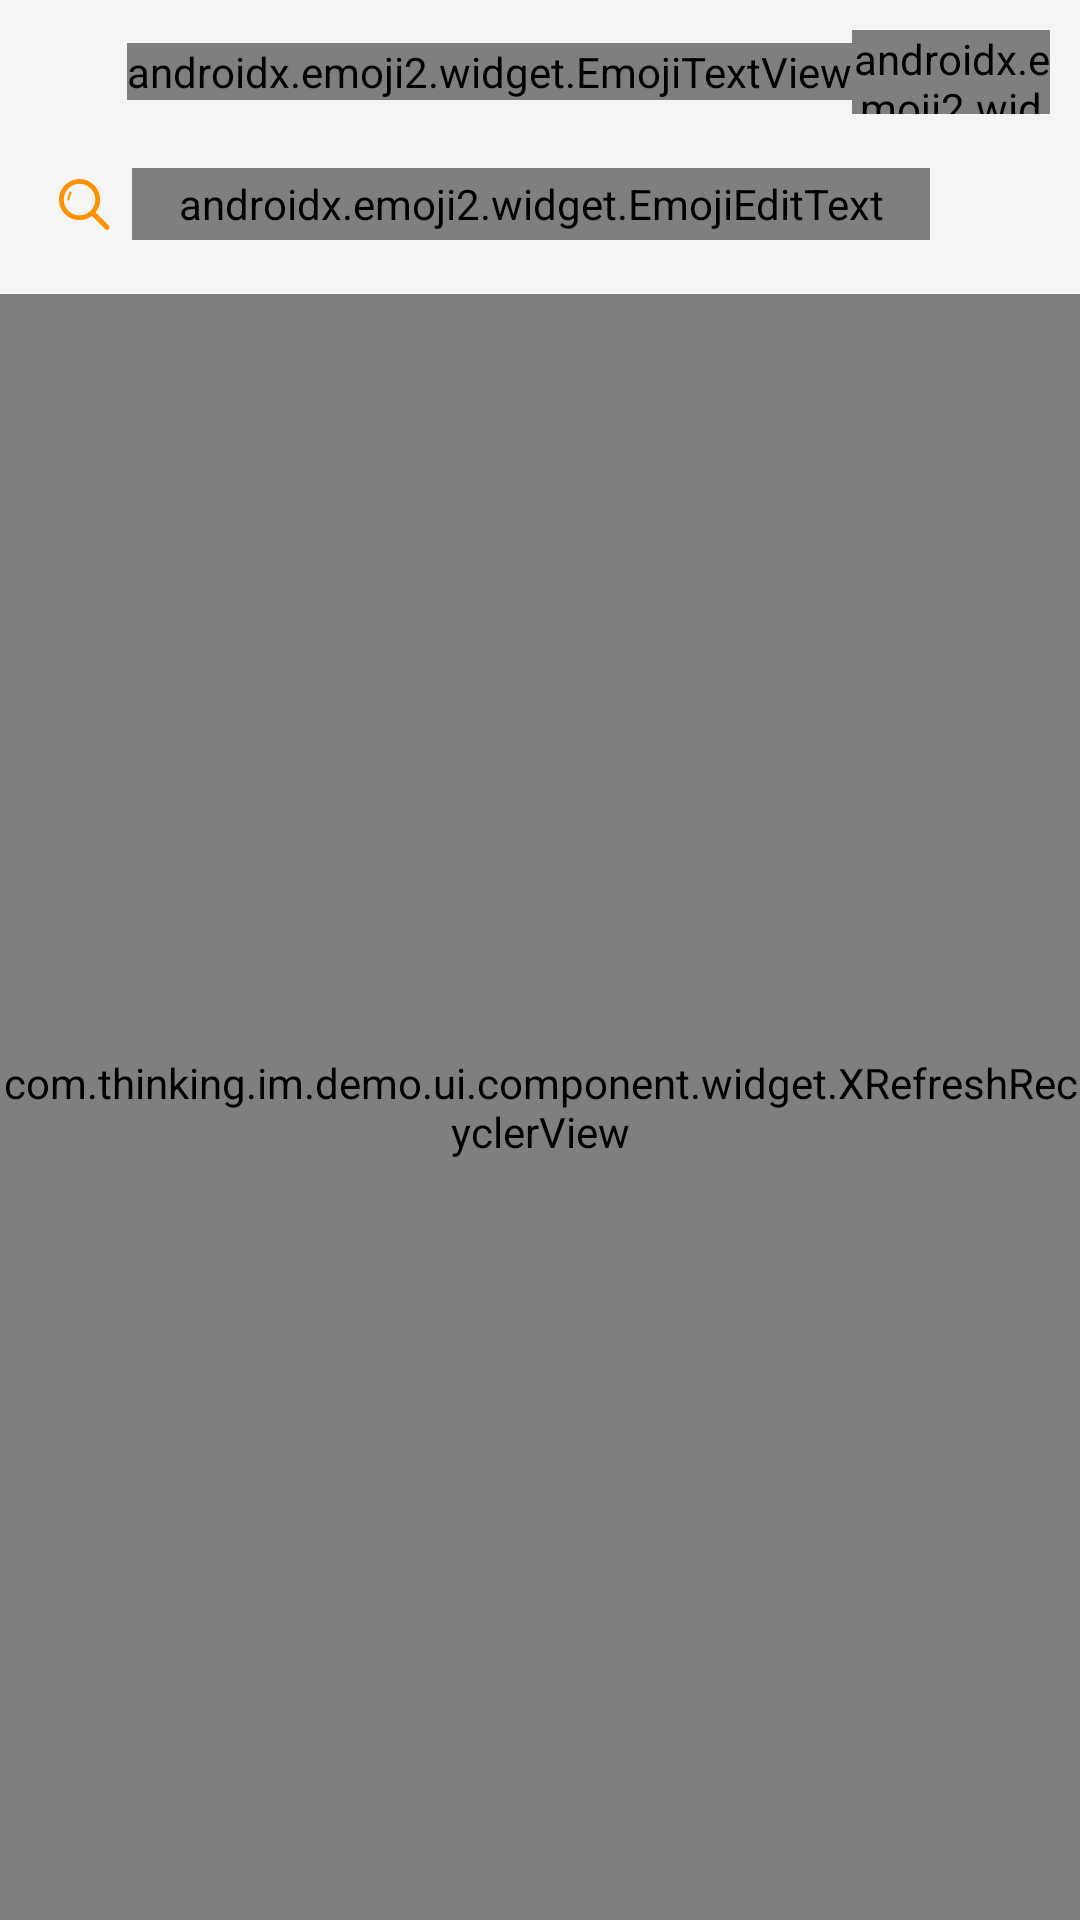

Named icons in this screenshot (1080×1920) and their centers, [x,y]:
search: [84,204]
